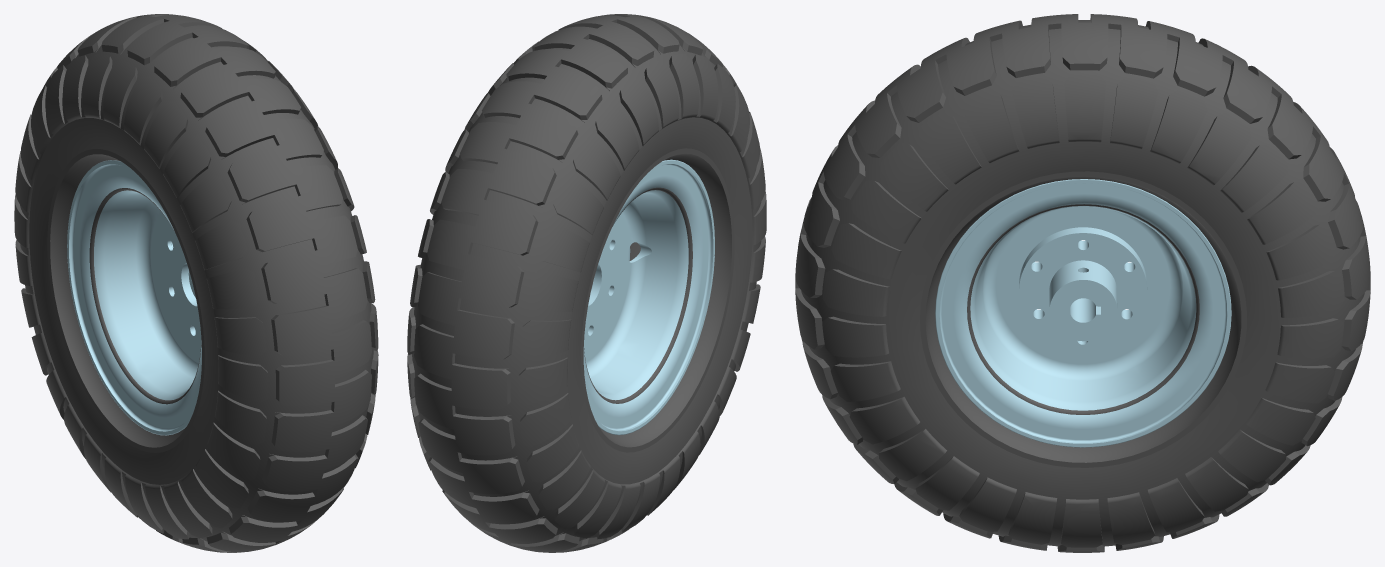
The model's file is ackermann_rear_right_wheel.glb.
3 renders of one model, left to right at view 1: azimuth 30°, elevation 25°; view 2: azimuth 150°, elevation 25°; view 3: azimuth 270°, elevation 25°, orthographic. The views are drawn at different scales.
Parts seen in each view (by area): view 1: 10´胖̥£¨³凸Ö£©_1, 12·¨<_1_2_1_1; view 2: 10´胖̥£¨³凸Ö£©_1, 12·¨<_1_2_1_1; view 3: 10´胖̥£¨³凸Ö£©_1, 12·¨<_1_2_1_1.
Boxes of the visible parts, x1=… form: 10´胖̥£¨³凸Ö£©_1: x1=14, y1=14, x2=378, y2=552; 12·¨<_1_2_1_1: x1=67, y1=160, x2=201, y2=435; 10´胖̥£¨³凸Ö£©_1: x1=407, y1=14, x2=766, y2=552; 12·¨<_1_2_1_1: x1=583, y1=159, x2=714, y2=435; 10´胖̥£¨³凸Ö£©_1: x1=795, y1=14, x2=1370, y2=552; 12·¨<_1_2_1_1: x1=935, y1=179, x2=1231, y2=447.
Bounding box in the file's own units: 0.0813 × 0.255 × 0.255.
